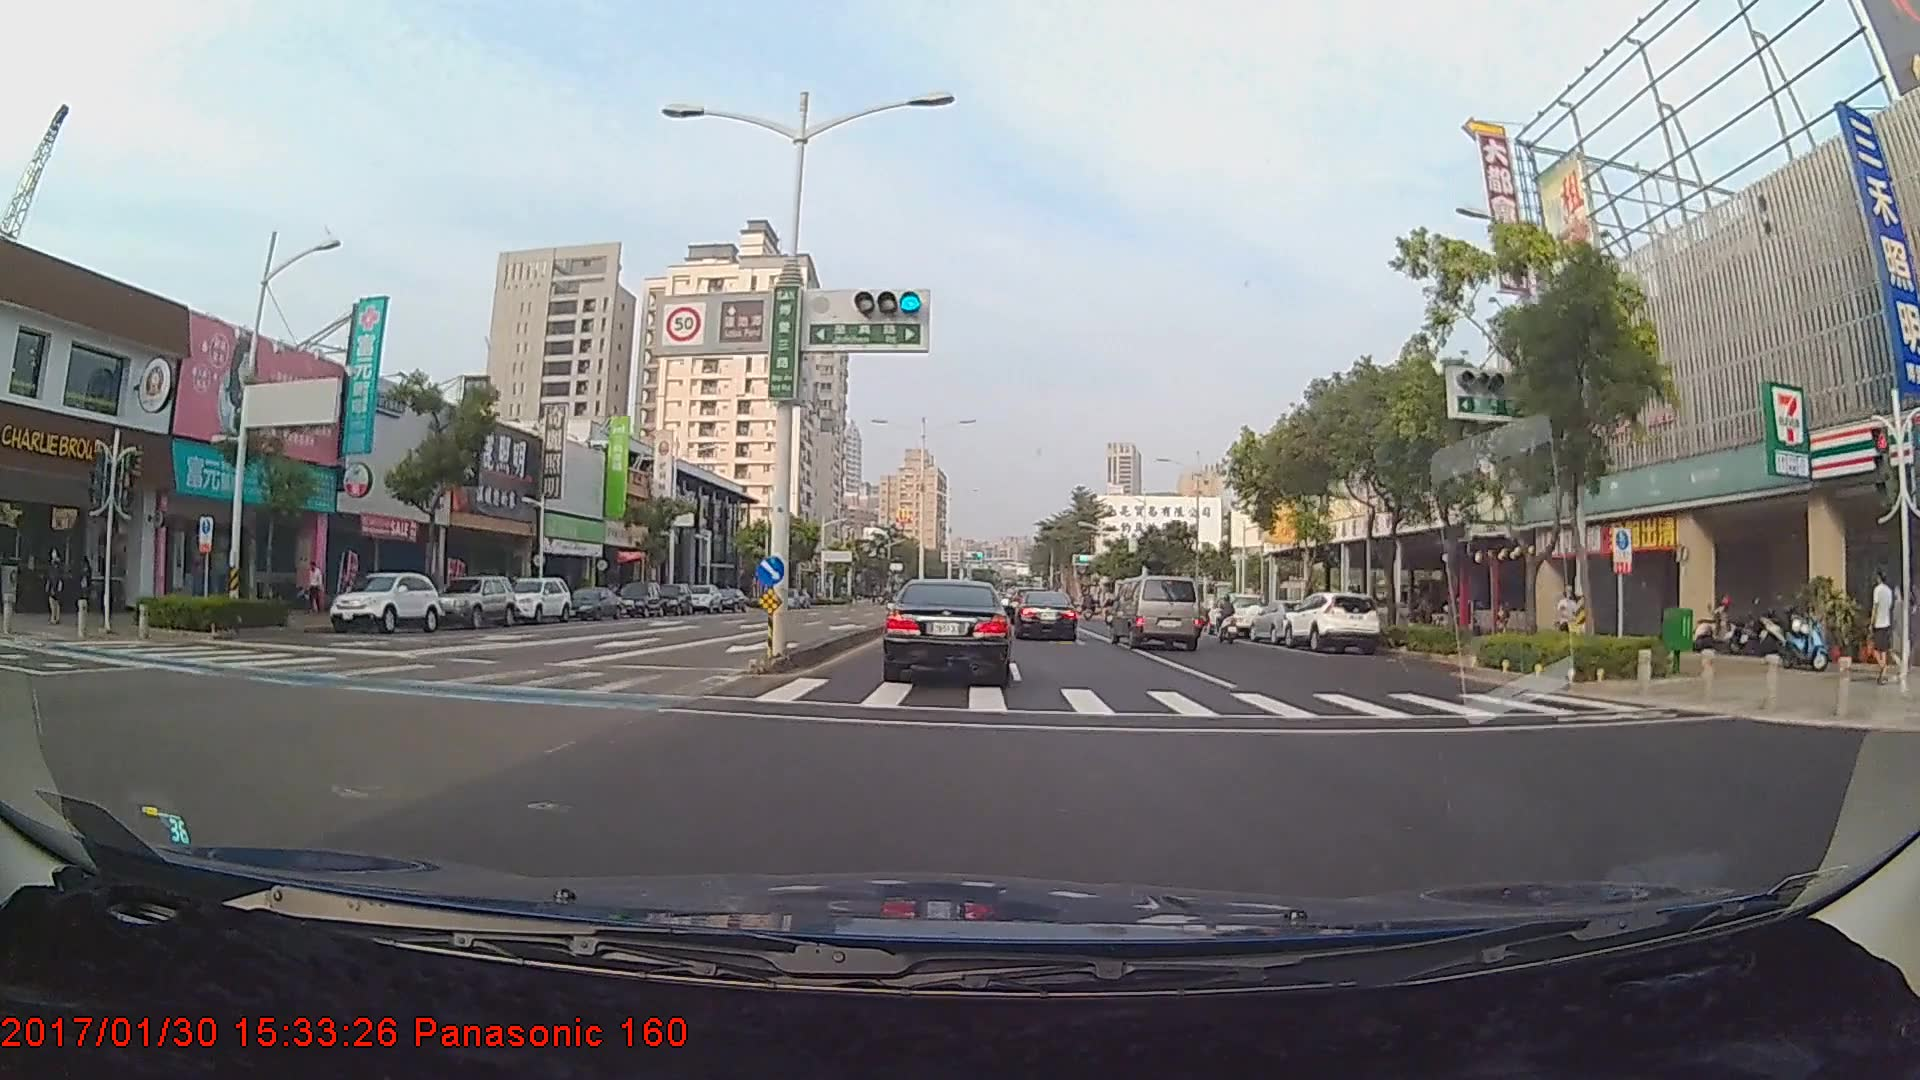pedestrian: (1867, 569, 1897, 679), (1886, 581, 1911, 678), (45, 545, 70, 625), (304, 559, 324, 615)
rider: (1211, 595, 1246, 646)
vehicle: (884, 578, 1010, 681), (1110, 574, 1204, 651), (326, 570, 443, 632), (1279, 589, 1382, 652), (425, 573, 516, 629), (501, 576, 571, 625), (1249, 598, 1322, 643), (1011, 590, 1078, 641), (562, 585, 621, 620), (615, 583, 664, 621), (649, 584, 692, 618)
